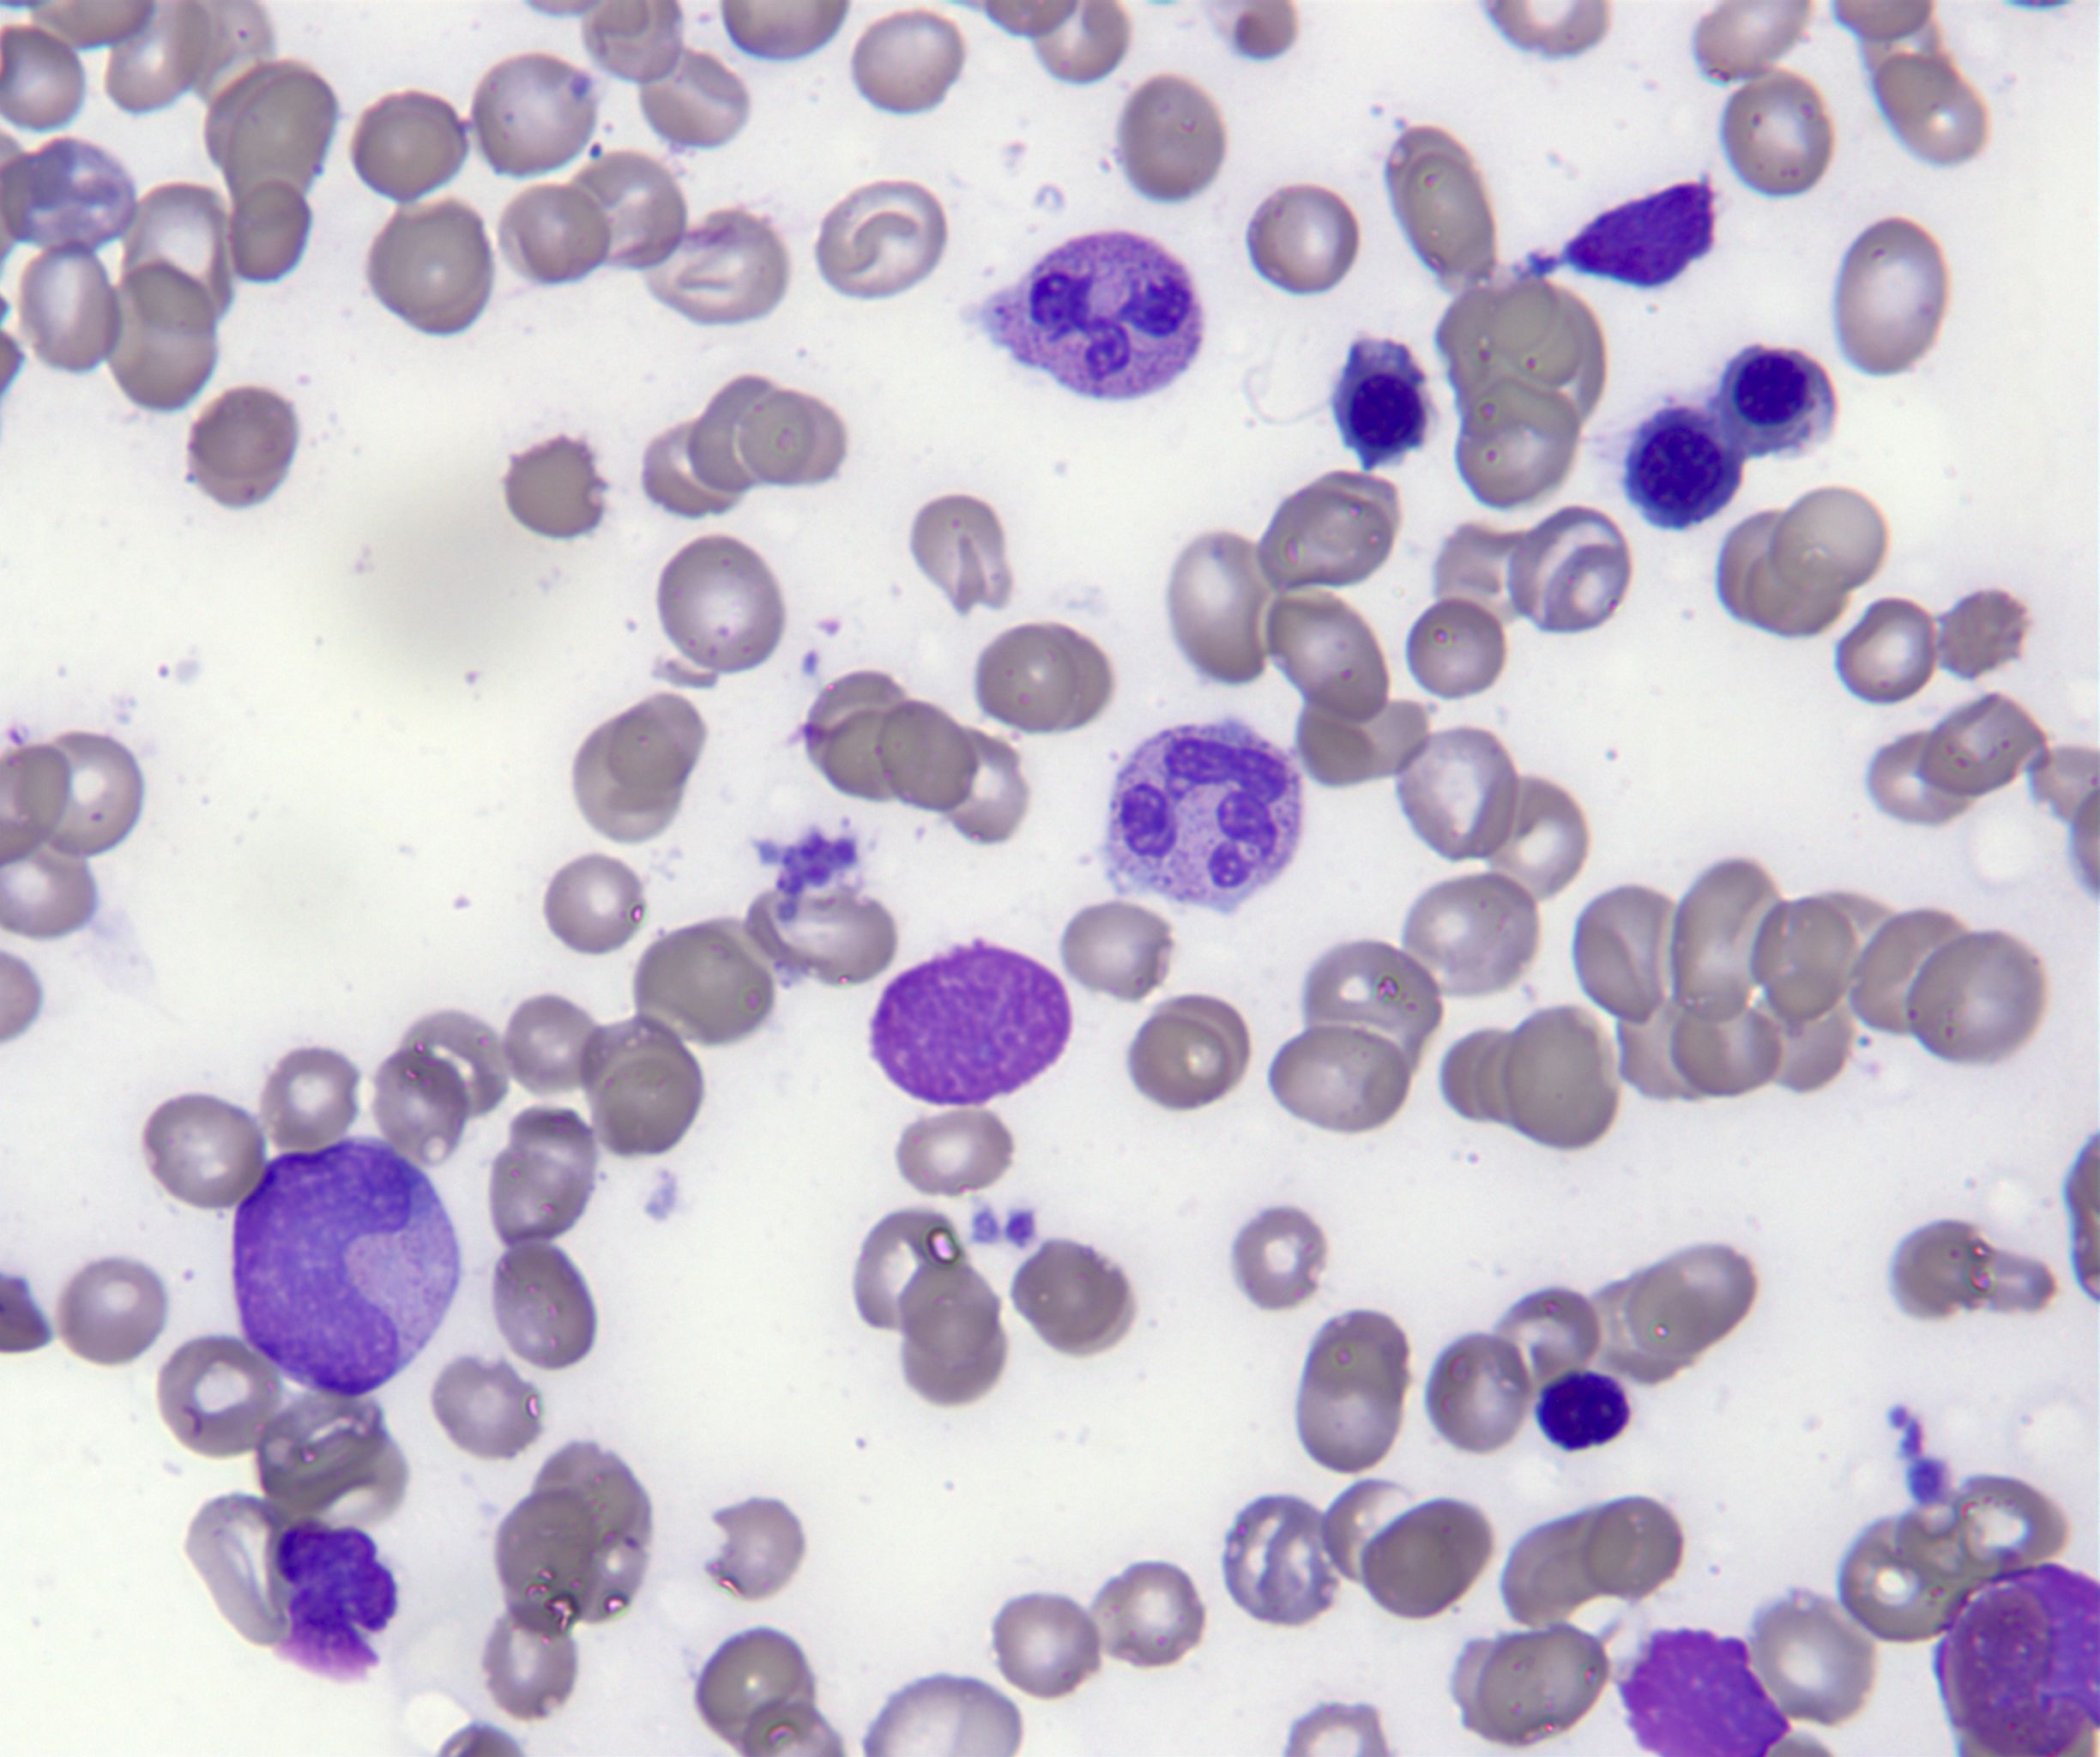23: (1591, 403, 1749, 532), (1327, 328, 1439, 478)
24: (1699, 338, 1840, 462)
32: (1516, 164, 1727, 288)
4: (230, 1138, 464, 1399)
6: (954, 225, 1207, 407), (1101, 717, 1306, 914)
x: (869, 937, 1073, 1108), (1934, 1560, 2100, 1757), (1612, 1624, 1795, 1757), (272, 1514, 399, 1687), (1533, 1370, 1631, 1452)
